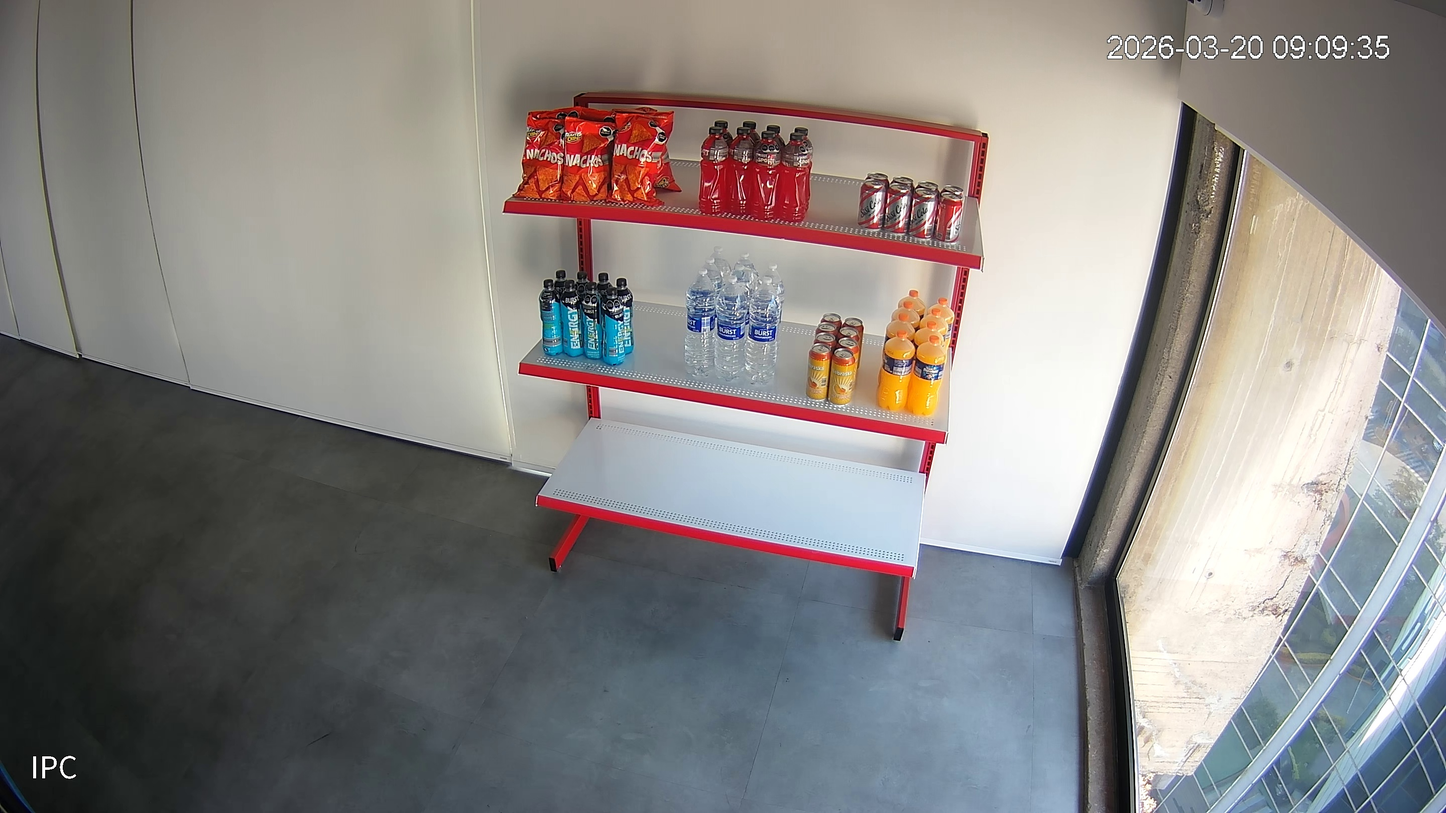agua_burst: (744, 277, 780, 386), (685, 268, 717, 377), (715, 275, 747, 382)
burst_energetica_roja: (776, 133, 808, 222), (700, 126, 728, 214), (742, 121, 760, 146)
burst_energy: (601, 288, 626, 367), (538, 278, 562, 356), (555, 269, 567, 297)
nachos_naturasol: (561, 118, 617, 201), (657, 144, 683, 191), (529, 106, 582, 120)
nebraska_mango: (805, 344, 832, 400), (816, 322, 838, 342), (837, 328, 859, 345)
sisi_cola: (857, 179, 887, 230), (916, 181, 938, 200), (891, 176, 914, 194)
sun_paradise_naranja: (877, 330, 914, 412), (892, 301, 921, 331), (915, 321, 944, 351)
